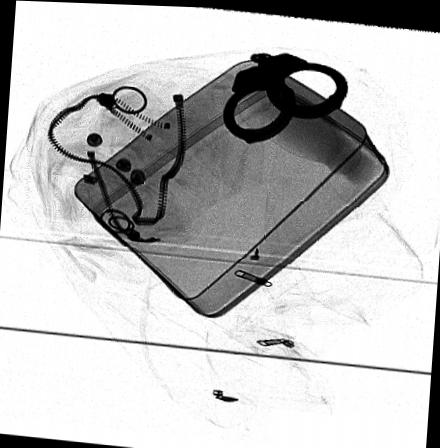HandCuffs: (221, 48, 348, 142)
